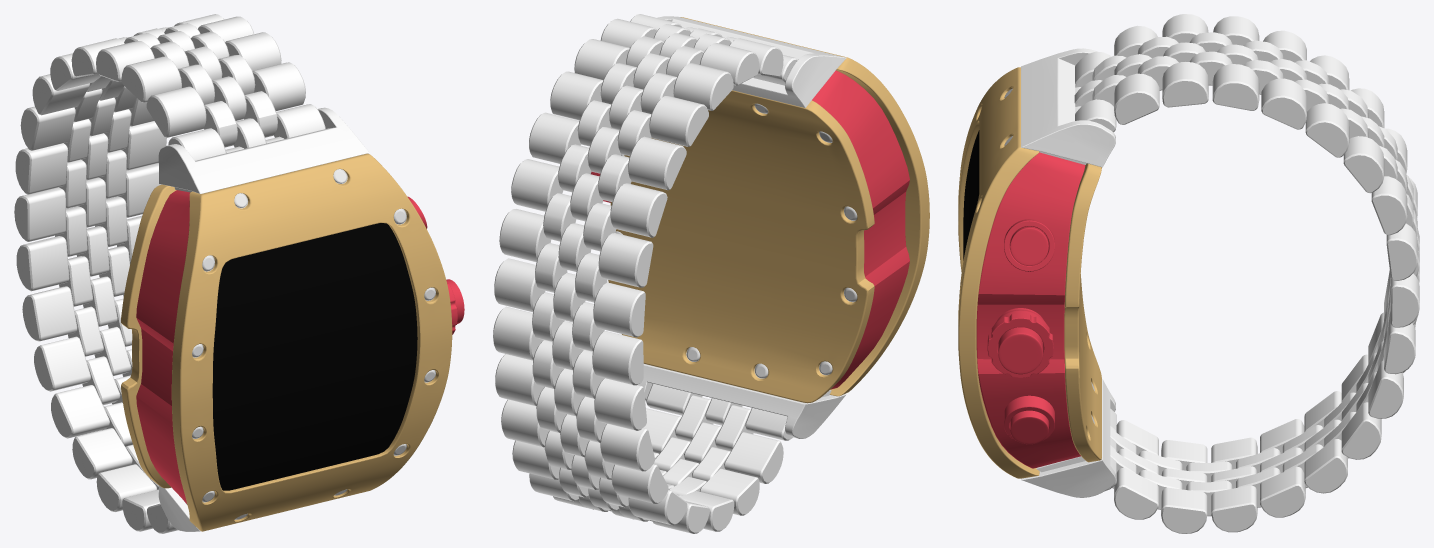
The model's file is 3b_Jubilee_Clean.glb.
3 views of the same model, side by side, from view 1: azimuth 30°, elevation 25°; view 2: azimuth 150°, elevation 25°; view 3: azimuth 270°, elevation 25° (orthographic).
Parts seen in each view (by area): view 1: Jubilee.Strap.CF.3B.Clean; view 2: Jubilee.Strap.CF.3B.Clean; view 3: Jubilee.Strap.CF.3B.Clean.
Boxes of the visible parts, <box> form: Jubilee.Strap.CF.3B.Clean: <box>14,14,464,533</box>; Jubilee.Strap.CF.3B.Clean: <box>493,14,929,533</box>; Jubilee.Strap.CF.3B.Clean: <box>958,14,1419,533</box>.
Size of the model in its own units: 0.4685 by 0.6807 by 0.6238.
